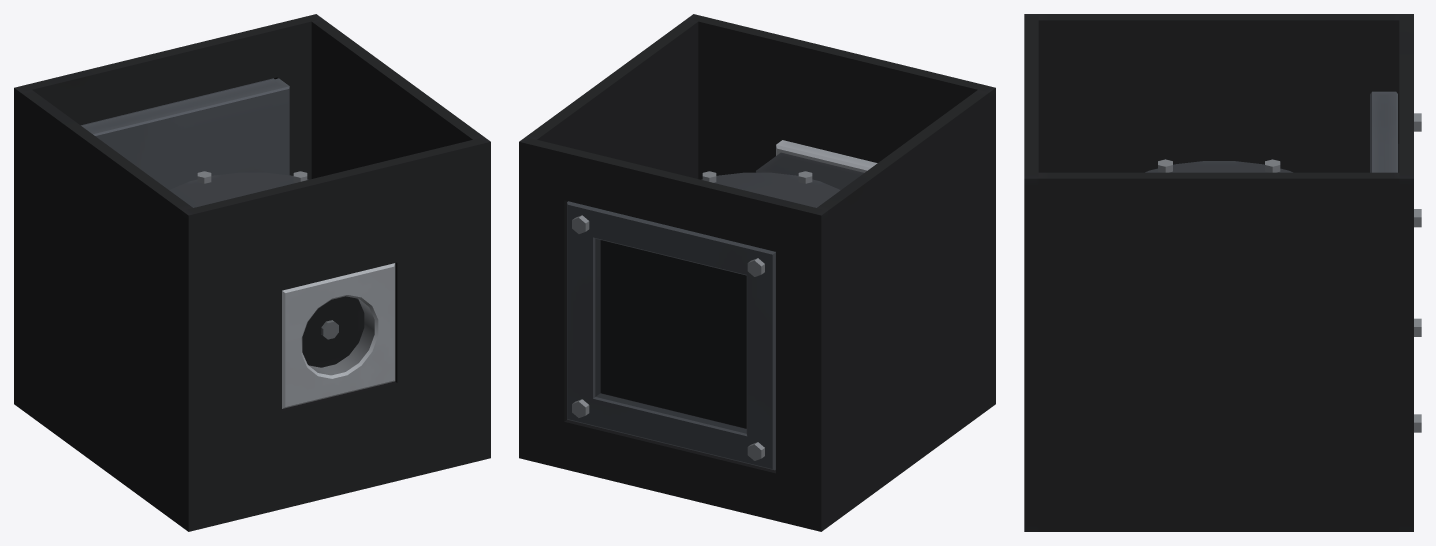
Rendered from body.obj.
3 renders of one model, left to right at view 1: azimuth 30°, elevation 25°; view 2: azimuth 150°, elevation 25°; view 3: azimuth 270°, elevation 25°, orthographic. The views are drawn at different scales.
Visible parts, largest first — view 1: submersible_fuel_pump__body__sump_walls, submersible_fuel_pump__body__outlet_neck, submersible_fuel_pump__body__pport_plate, submersible_fuel_pump__body__pport_socket, submersible_fuel_pump__body__cap; view 2: submersible_fuel_pump__body__sump_walls, submersible_fuel_pump__body__fport_plate, submersible_fuel_pump__body__fport_throat, submersible_fuel_pump__body__cap, submersible_fuel_pump__body__junction_box, submersible_fuel_pump__body__pport_plate, submersible_fuel_pump__body__fport_studs; view 3: submersible_fuel_pump__body__sump_walls, submersible_fuel_pump__body__outlet_neck, submersible_fuel_pump__body__cap, submersible_fuel_pump__body__fport_studs.
Boxes of the visible parts, bbox=[...] form: submersible_fuel_pump__body__sump_walls: bbox=[14, 14, 490, 531]; submersible_fuel_pump__body__outlet_neck: bbox=[82, 78, 289, 190]; submersible_fuel_pump__body__pport_plate: bbox=[282, 263, 395, 408]; submersible_fuel_pump__body__pport_socket: bbox=[302, 296, 364, 367]; submersible_fuel_pump__body__cap: bbox=[169, 172, 308, 207]; submersible_fuel_pump__body__sump_walls: bbox=[519, 14, 995, 531]; submersible_fuel_pump__body__fport_plate: bbox=[567, 201, 775, 470]; submersible_fuel_pump__body__fport_throat: bbox=[600, 240, 746, 428]; submersible_fuel_pump__body__cap: bbox=[701, 172, 840, 207]; submersible_fuel_pump__body__junction_box: bbox=[755, 152, 863, 190]; submersible_fuel_pump__body__pport_plate: bbox=[776, 140, 877, 172]; submersible_fuel_pump__body__fport_studs: bbox=[572, 215, 764, 460]; submersible_fuel_pump__body__sump_walls: bbox=[1024, 14, 1413, 531]; submersible_fuel_pump__body__outlet_neck: bbox=[1370, 91, 1397, 172]; submersible_fuel_pump__body__cap: bbox=[1145, 161, 1292, 172]; submersible_fuel_pump__body__fport_studs: bbox=[1414, 113, 1421, 432].
Bounding box in the file's own units: 1 × 1 × 1.02.
